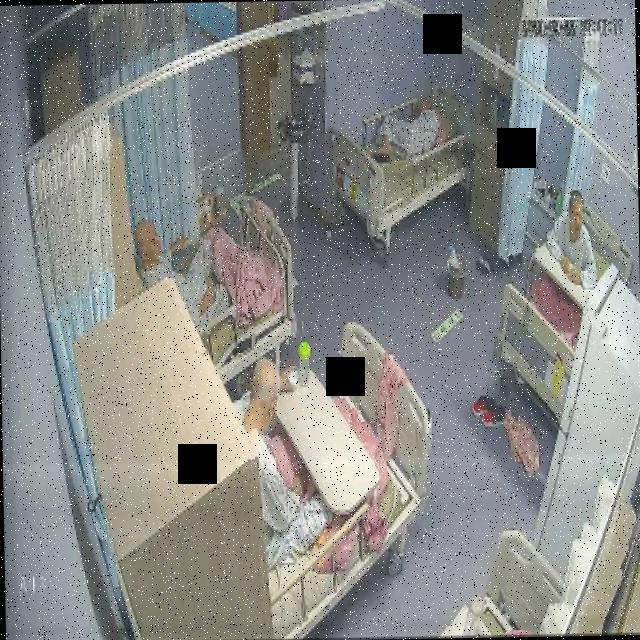bed: (233, 325, 433, 640), (491, 205, 634, 422), (160, 201, 294, 386), (331, 80, 476, 240)
lie: (369, 93, 448, 160)
patient: (236, 349, 334, 566), (134, 218, 218, 337), (546, 182, 597, 290), (371, 94, 448, 162)
sit: (235, 349, 335, 566), (134, 218, 262, 336), (546, 183, 598, 290)
